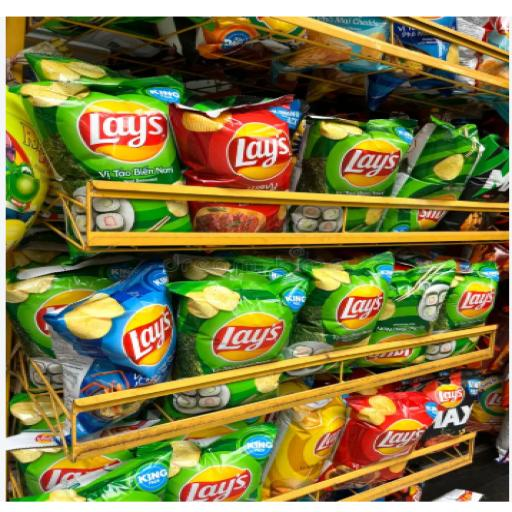green_chips: (13, 55, 183, 201), (169, 275, 308, 420), (6, 257, 138, 362), (297, 116, 417, 198), (292, 253, 393, 349), (164, 417, 277, 502), (16, 447, 180, 502), (392, 117, 483, 201), (369, 261, 456, 344), (434, 262, 499, 333), (28, 451, 131, 494), (461, 135, 509, 201), (420, 300, 454, 331)
